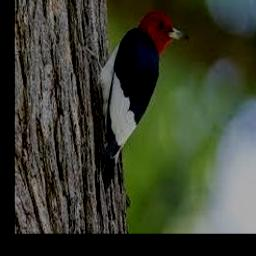Woodpecker: (85, 10, 189, 188)
